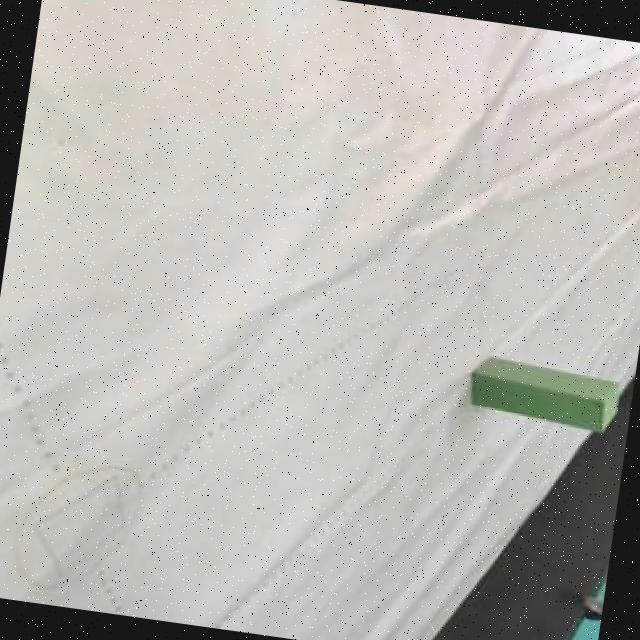greenbox: (464, 350, 628, 437)
